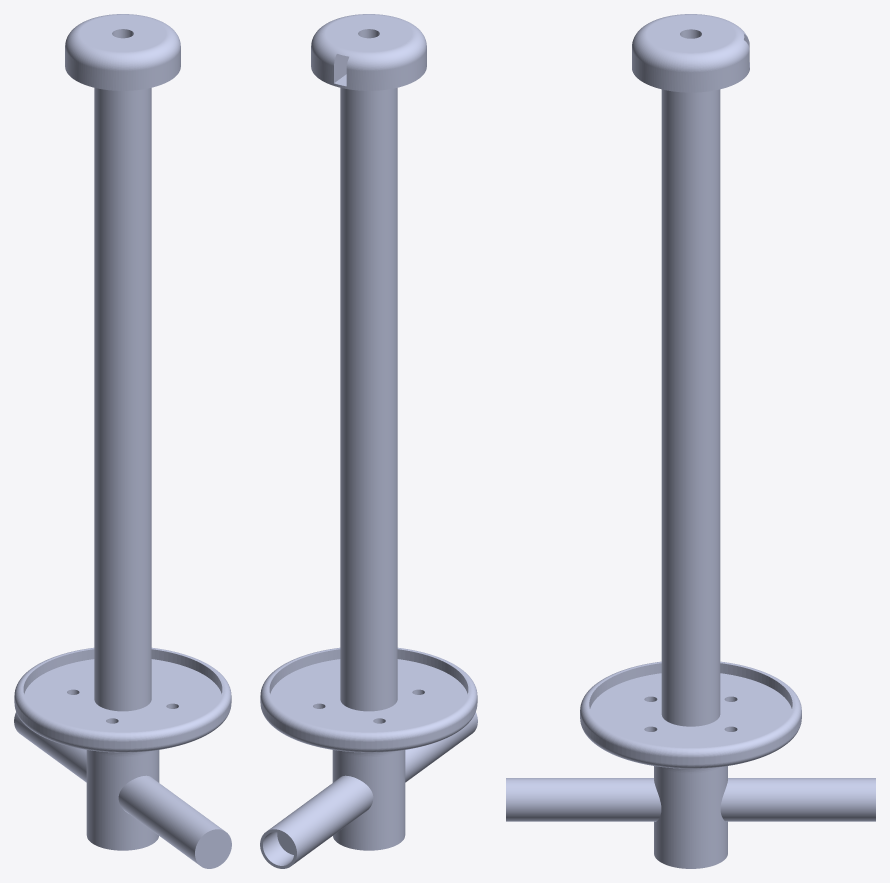
3 views of the same model, side by side, from view 1: azimuth 30°, elevation 25°; view 2: azimuth 150°, elevation 25°; view 3: azimuth 270°, elevation 25° (orthographic). The views are drawn at different scales.
Parts seen in each view (by area): view 1: node0, node2, node1; view 2: node0, node2, node1; view 3: node0, node1, node2.
Part boxes in pixels (bbox=[...]): node0: bbox=[14, 88, 231, 850]; node2: bbox=[65, 14, 180, 90]; node1: bbox=[14, 712, 231, 868]; node0: bbox=[260, 88, 477, 850]; node2: bbox=[311, 14, 426, 90]; node1: bbox=[260, 712, 477, 868]; node0: bbox=[580, 89, 801, 868]; node1: bbox=[506, 778, 875, 821]; node2: bbox=[632, 14, 749, 92].
Size of the model in its own units: 0.03 by 0.05 by 0.1223.
